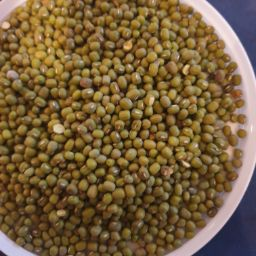Green gram dal(moong): (26, 5, 124, 256), (10, 95, 239, 200), (102, 9, 182, 256), (169, 12, 245, 222), (6, 6, 215, 77), (3, 22, 52, 243)
